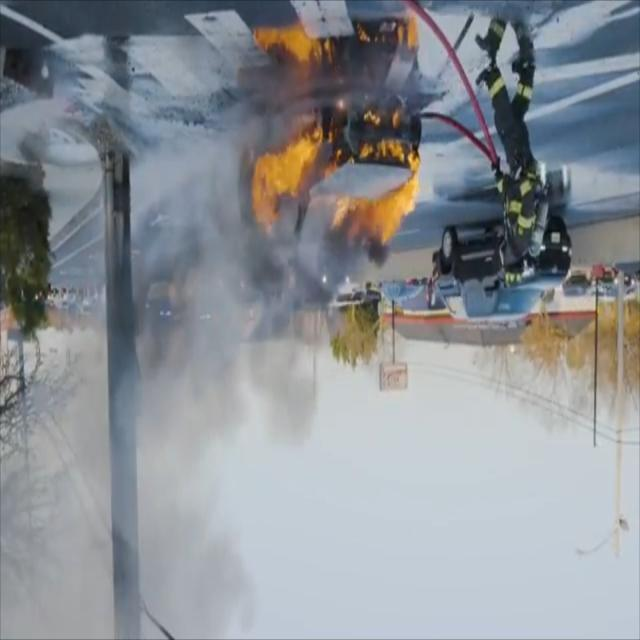fire: (234, 111, 424, 252)
